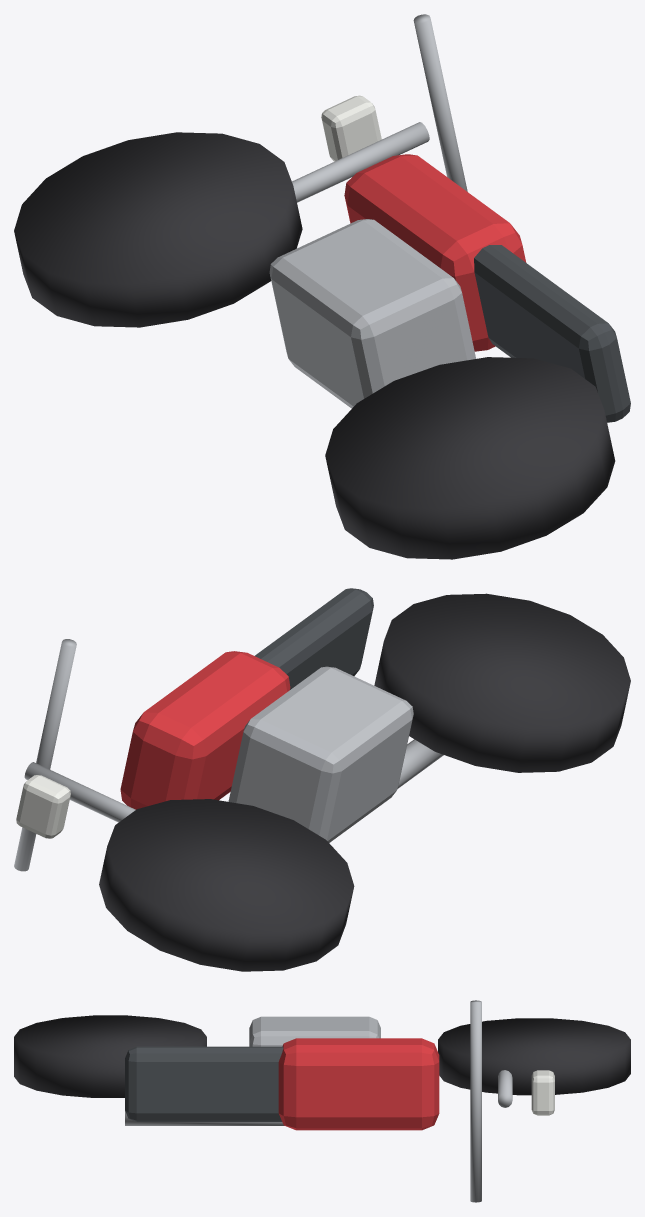
Rendered from Motorbike.fbx.
3 views of the same model, one above another, from view 1: azimuth 30°, elevation 25°; view 2: azimuth 150°, elevation 25°; view 3: azimuth 270°, elevation 25° (orthographic). The views are drawn at different scales.
Parts seen in each view (by area): view 1: Motorbike_WheelR, Motorbike_WheelF, Motorbike_Engine, Motorbike_Tank, Motorbike_Seat, Motorbike_Fork, Motorbike_Bars, Motorbike_Headlamp; view 2: Motorbike_WheelR, Motorbike_WheelF, Motorbike_Engine, Motorbike_Tank, Motorbike_Seat, Motorbike_Bars, Motorbike_Headlamp, Motorbike_Fork, Motorbike_Exhaust; view 3: Motorbike_Tank, Motorbike_Seat, Motorbike_WheelF, Motorbike_WheelR, Motorbike_Engine, Motorbike_Bars, Motorbike_Headlamp, Motorbike_Exhaust, Motorbike_Fork.
Part boxes in pixels (bbox=[...]): Motorbike_WheelR: bbox=[325, 357, 615, 559]; Motorbike_WheelF: bbox=[14, 132, 302, 327]; Motorbike_Engine: bbox=[269, 219, 475, 408]; Motorbike_Tank: bbox=[344, 154, 526, 351]; Motorbike_Seat: bbox=[474, 245, 630, 422]; Motorbike_Fork: bbox=[292, 122, 429, 202]; Motorbike_Bars: bbox=[413, 14, 467, 191]; Motorbike_Headlamp: bbox=[321, 95, 381, 161]; Motorbike_WheelR: bbox=[374, 593, 630, 772]; Motorbike_WheelF: bbox=[99, 799, 354, 971]; Motorbike_Engine: bbox=[228, 666, 413, 842]; Motorbike_Tank: bbox=[120, 651, 290, 809]; Motorbike_Seat: bbox=[255, 588, 373, 689]; Motorbike_Bars: bbox=[14, 639, 76, 871]; Motorbike_Headlamp: bbox=[16, 775, 70, 838]; Motorbike_Fork: bbox=[24, 762, 135, 822]; Motorbike_Exhaust: bbox=[397, 739, 443, 788]; Motorbike_Tank: bbox=[278, 1038, 439, 1130]; Motorbike_Seat: bbox=[125, 1046, 283, 1121]; Motorbike_WheelF: bbox=[438, 1018, 630, 1095]; Motorbike_WheelR: bbox=[14, 1015, 206, 1097]; Motorbike_Engine: bbox=[249, 1016, 380, 1046]; Motorbike_Bars: bbox=[470, 1000, 481, 1202]; Motorbike_Headlamp: bbox=[531, 1070, 554, 1115]; Motorbike_Exhaust: bbox=[125, 1111, 284, 1125]; Motorbike_Fork: bbox=[498, 1070, 512, 1107].
Size of the model in its own units: 1.09 by 0.693 by 2.11.
